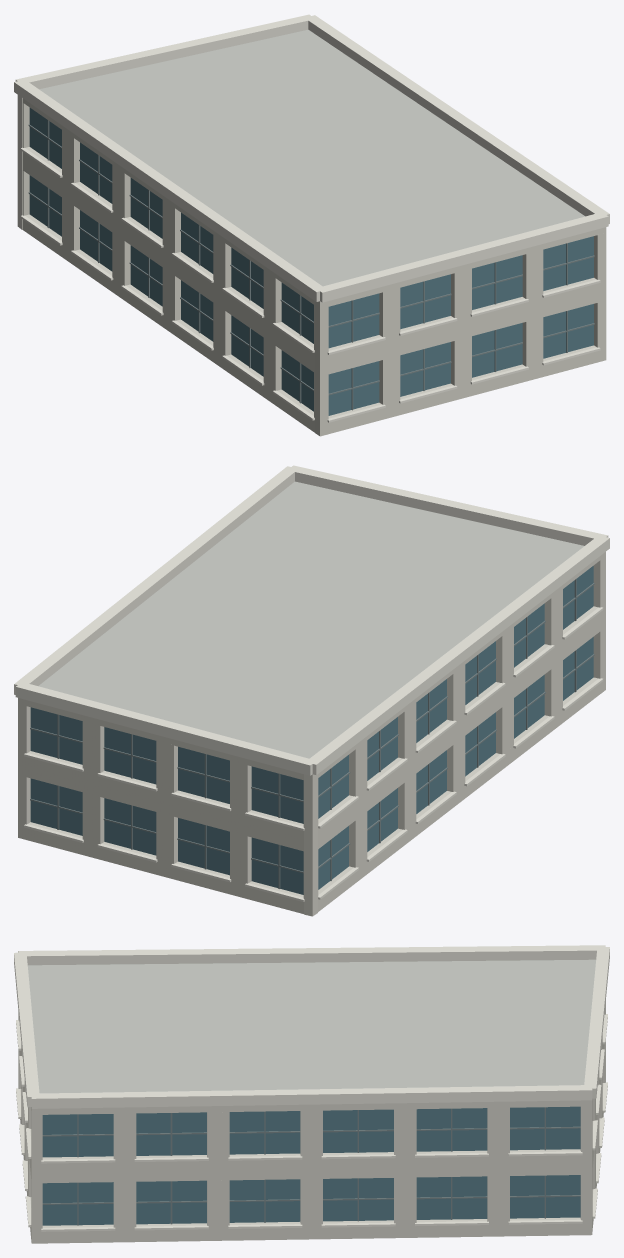
The picture shows the model from 3 angles, top to bottom: view 1: azimuth 30°, elevation 25°; view 2: azimuth 150°, elevation 25°; view 3: azimuth 270°, elevation 25°; orthographic projection. The views are drawn at different scales.
Visible parts, largest first — view 1: roof, wall, glass, trim, metal; view 2: roof, wall, glass, trim, metal; view 3: roof, wall, glass, trim, metal.
Boxes of the visible parts, left/top/right/bottom form: roof: left=39, top=29, right=584, bottom=286; wall: left=17, top=95, right=606, bottom=436; glass: left=29, top=107, right=593, bottom=415; trim: left=14, top=14, right=609, bottom=422; metal: left=28, top=120, right=594, bottom=410; roof: left=38, top=481, right=584, bottom=758; wall: left=18, top=552, right=605, bottom=916; glass: left=30, top=566, right=593, bottom=894; trim: left=14, top=465, right=609, bottom=901; metal: left=30, top=579, right=594, bottom=888; roof: left=27, top=959, right=595, bottom=1093; wall: left=18, top=1001, right=605, bottom=1243; glass: left=42, top=1106, right=580, bottom=1225; trim: left=14, top=945, right=609, bottom=1231; metal: left=42, top=1107, right=580, bottom=1225.
Bounding box in the file's own units: 14.47 × 6.44 × 23.72.
